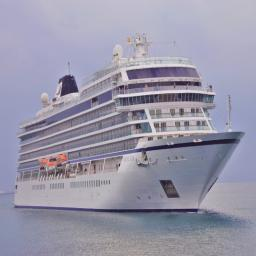cruises: (13, 33, 247, 218)
